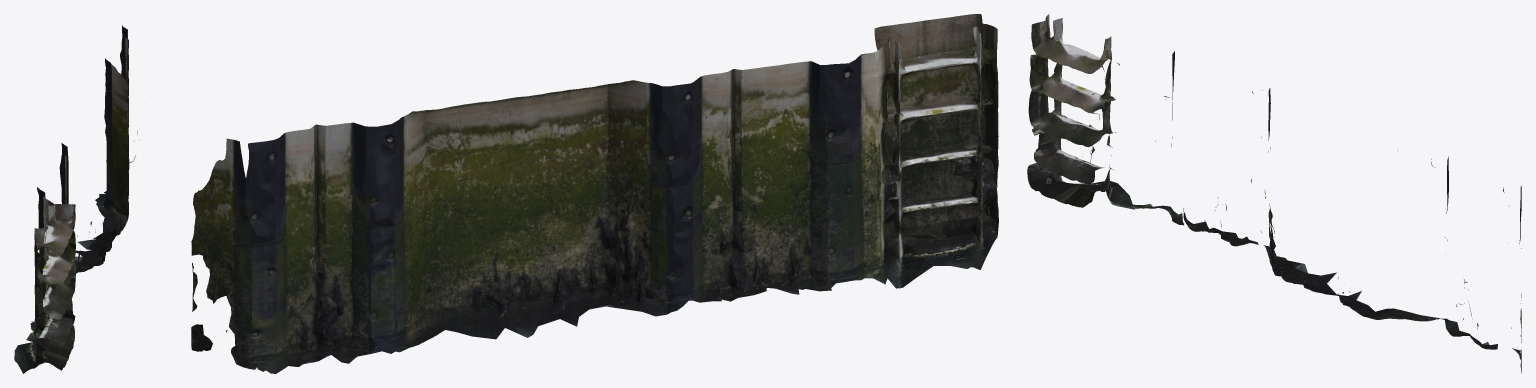
3 renders of one model, left to right at view 1: azimuth 30°, elevation 25°; view 2: azimuth 150°, elevation 25°; view 3: azimuth 270°, elevation 25°, orthographic. The views are drawn at different scales.
Size of the model in its own units: 3.17 by 1.4 by 3.49.
2 materials, 2 textured.
